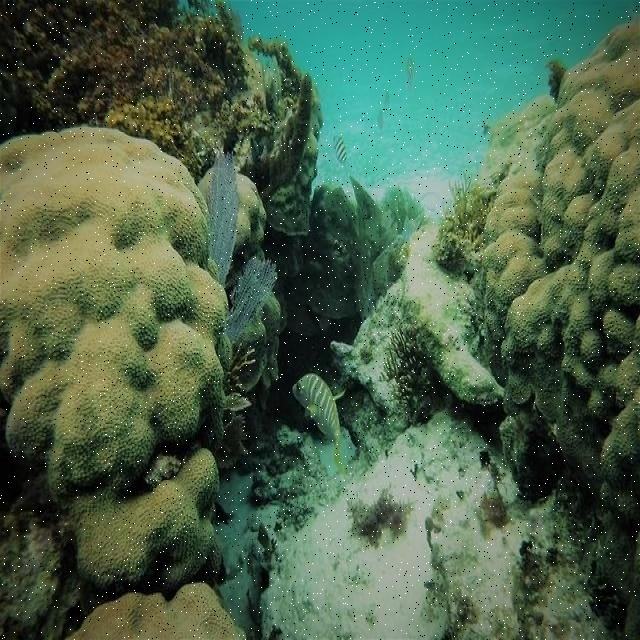fish: (292, 373, 345, 468), (334, 135, 350, 164), (408, 56, 416, 88)
reefs: (0, 127, 247, 638), (462, 13, 639, 633)
